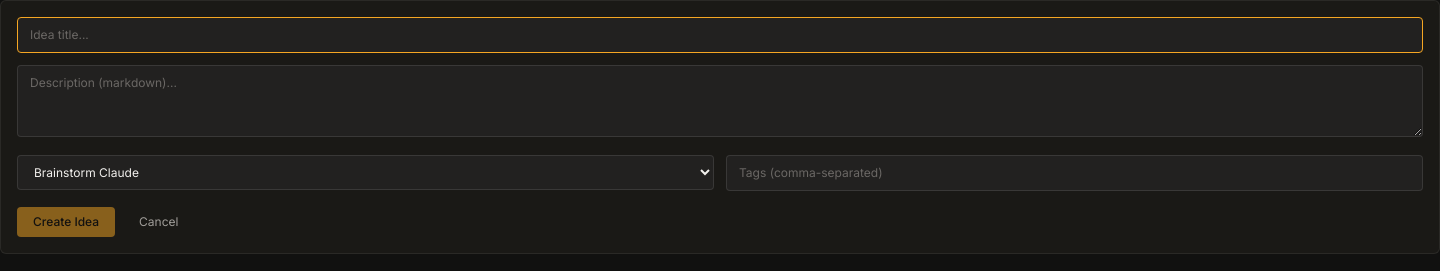
Test: IdeaForm › enables submit when title has content
This screenshot has width=1440, height=271.
Type "My idea" into the field with placeholder "Idea title..." at (720, 35), box [17,17,1423,53]
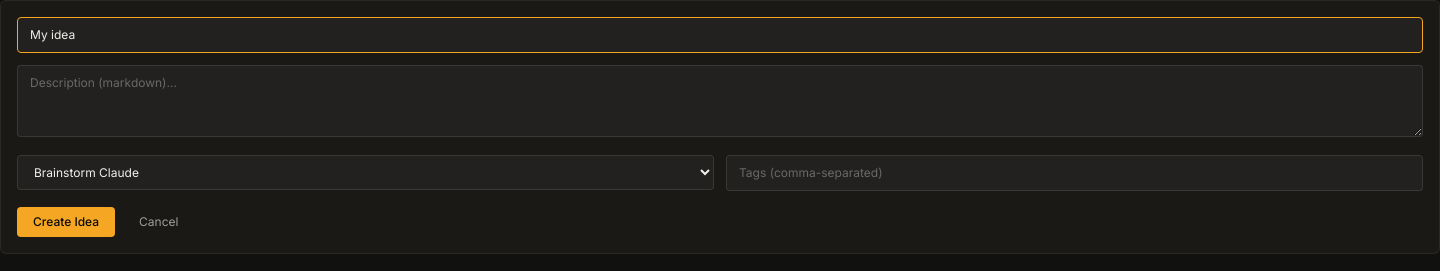
Check: the button "Create Idea" is enabled, box [17,206,115,236]
